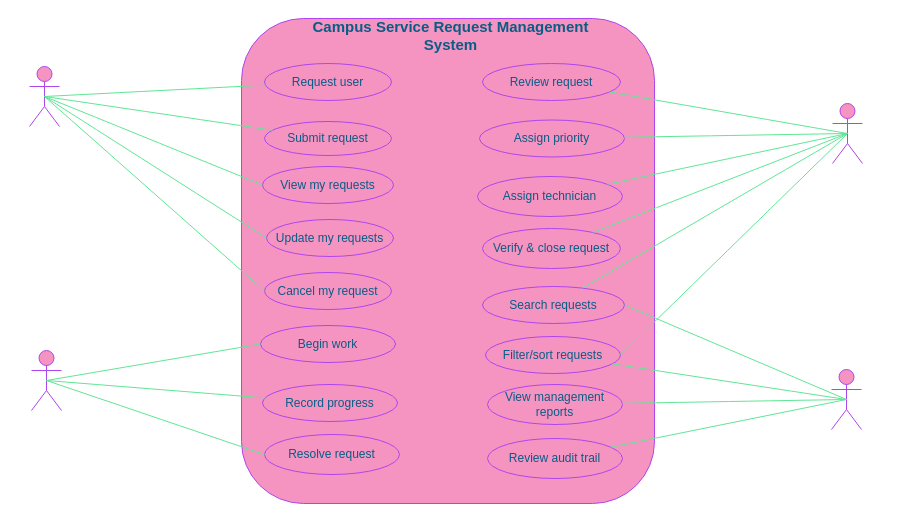
Some shapes in this 920 by 521 pixel diagram are drawn without their labels. Each missing label, with the centre of its shape:
"Requester" goes at point 44,96.
"Service Officer" goes at point 847,133.
"System Administrator" goes at point 846,399.
"Technician" goes at point 46,380.
